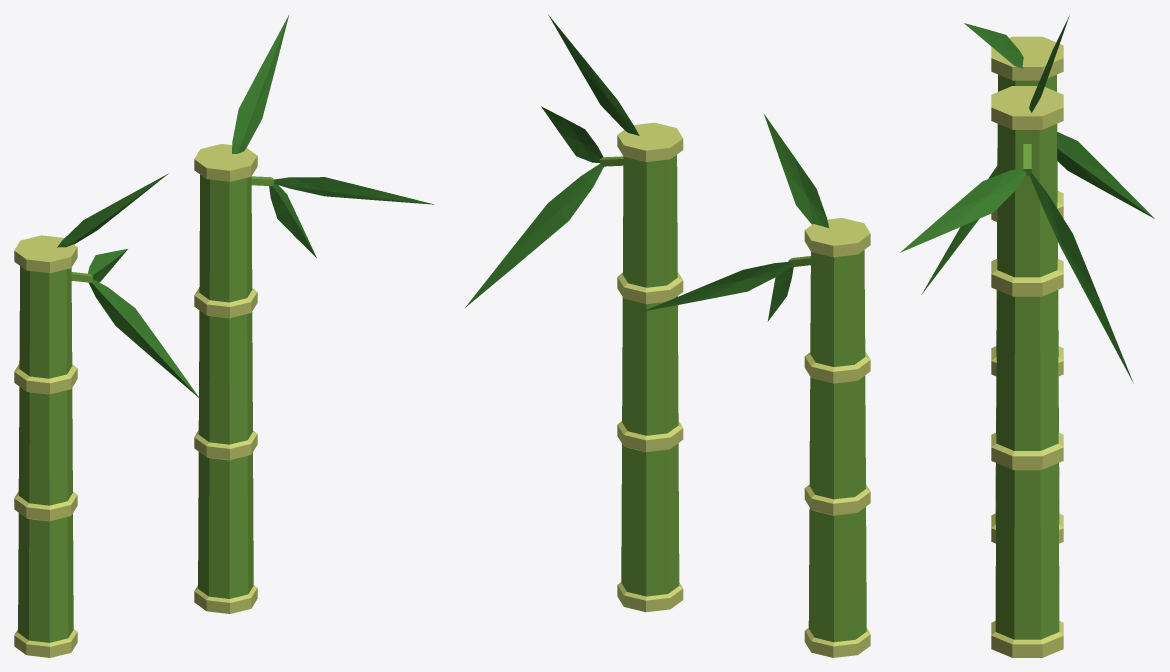
File: KANJI_04_TAKE.fbx
3 views of the same model, side by side, from view 1: azimuth 30°, elevation 25°; view 2: azimuth 150°, elevation 25°; view 3: azimuth 270°, elevation 25° (orthographic). The views are drawn at different scales.
Parts seen in each view (by area): view 1: SM_KANJI_04_Take; view 2: SM_KANJI_04_Take; view 3: SM_KANJI_04_Take.
Part boxes in pixels (left/top/right/bottom): SM_KANJI_04_Take: left=14, top=14, right=434, bottom=657; SM_KANJI_04_Take: left=464, top=15, right=870, bottom=657; SM_KANJI_04_Take: left=900, top=15, right=1154, bottom=657.
Bounding box in the file's own units: 0.24 × 0.35 × 0.12.
